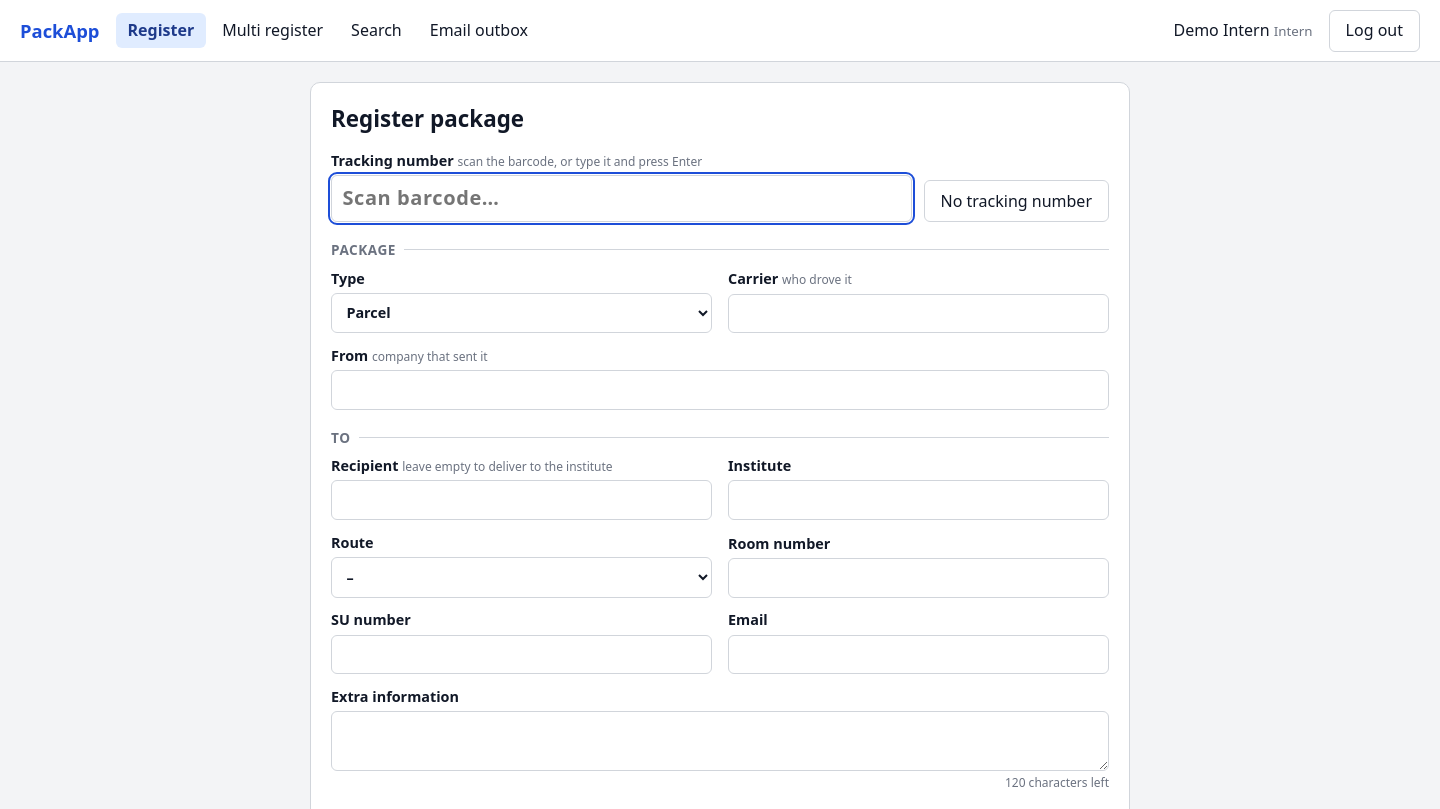
Test case: the menu switches between pages
The width and height of the screenshot is (1440, 809).
Click the link "Search": (376,30) top-left (351, 19), bottom-right (402, 41)
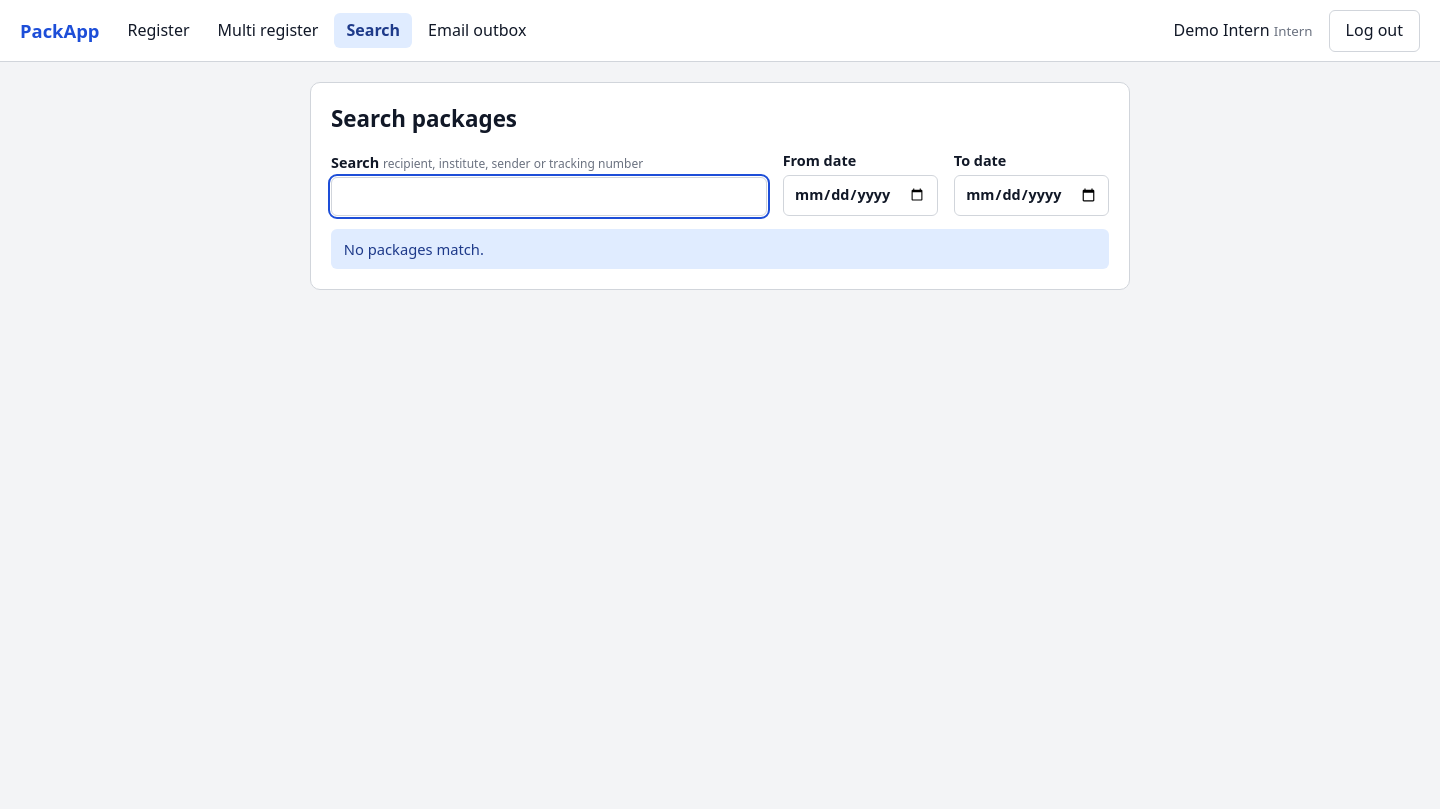
Now the heading "Search packages" is shown, box top-left (331, 103), bottom-right (517, 134)
Click the link "Multi register": (268,30) top-left (218, 19), bottom-right (318, 41)
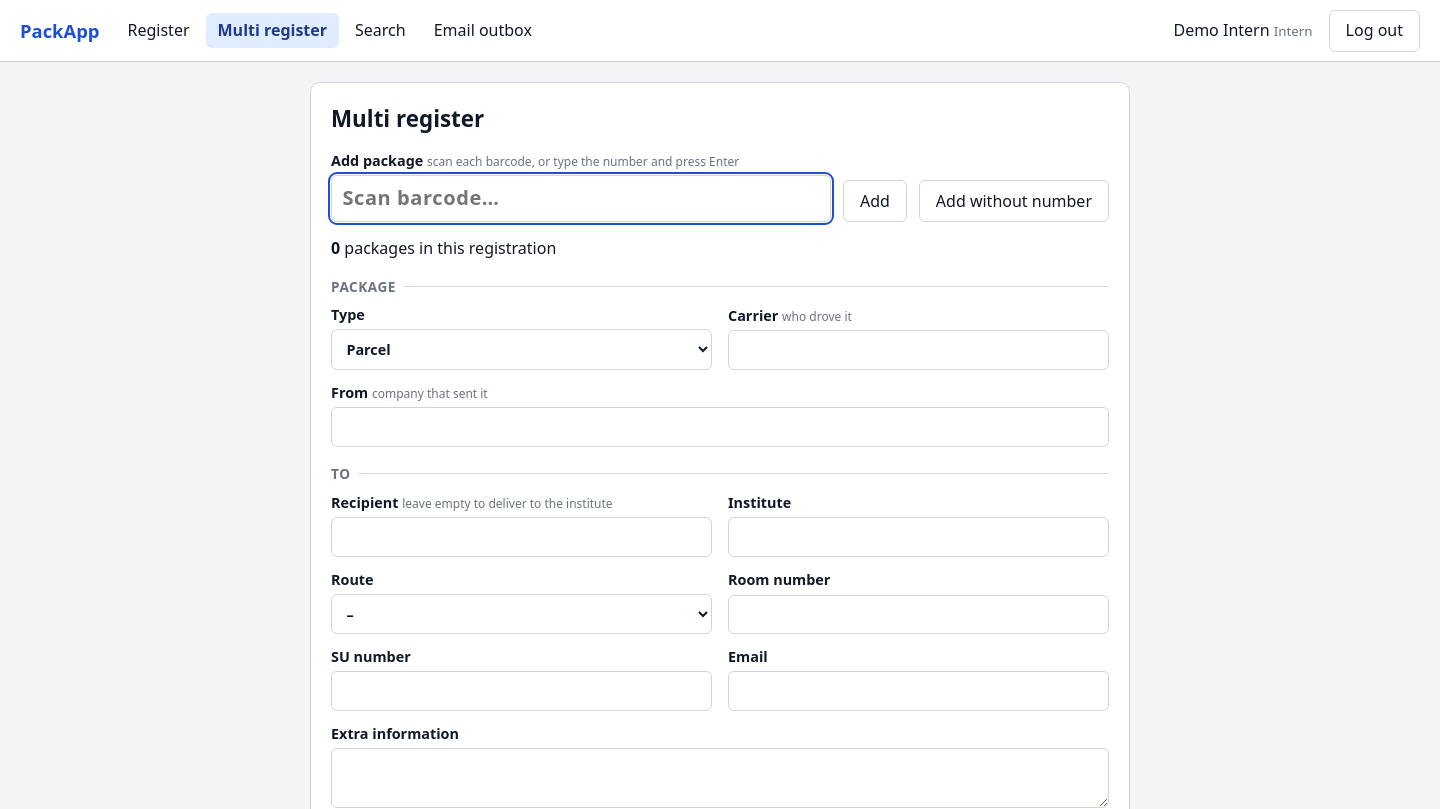
Now the heading "Multi register" is shown, box top-left (331, 103), bottom-right (484, 134)
